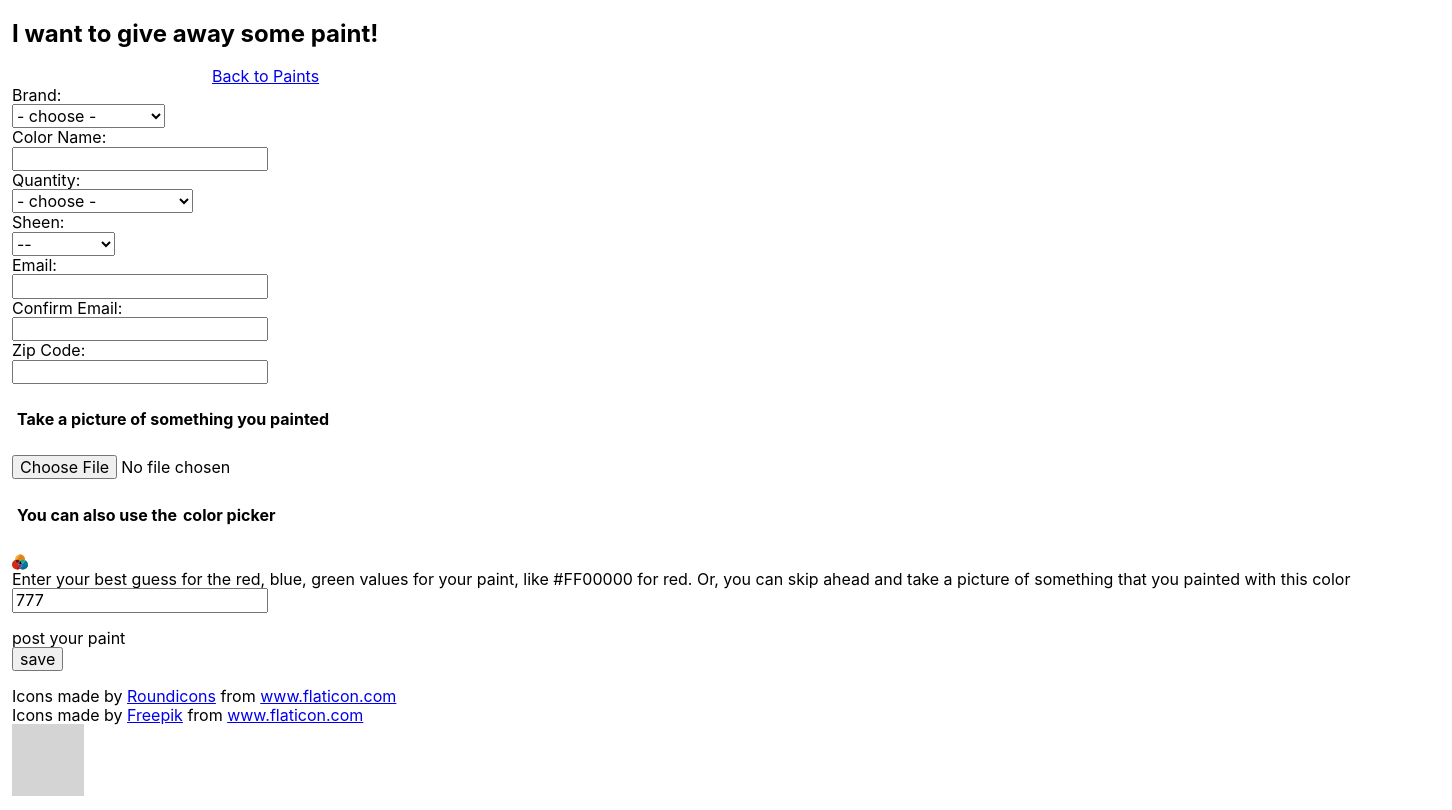
Test: GiveAwayPaint form › Error messages when a single field is missing › shows missing brand Errors
The width and height of the screenshot is (1452, 810).
In the field labelled "Color Name:": (140, 159) [12,147,268,171], type "savage"
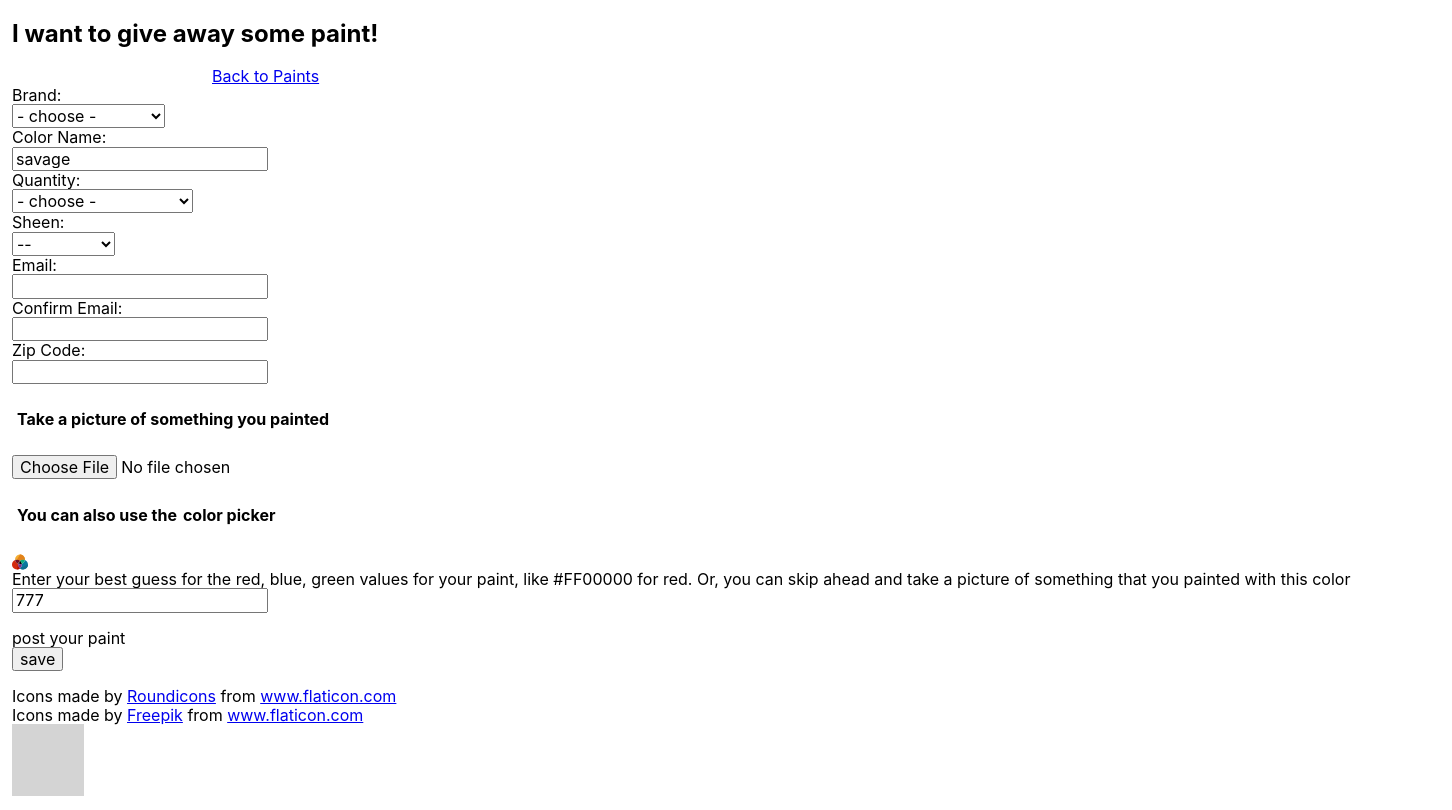
Select "less than a gallon" in the dropdown labelled "Quantity:": (102, 201) [12,189,193,213]
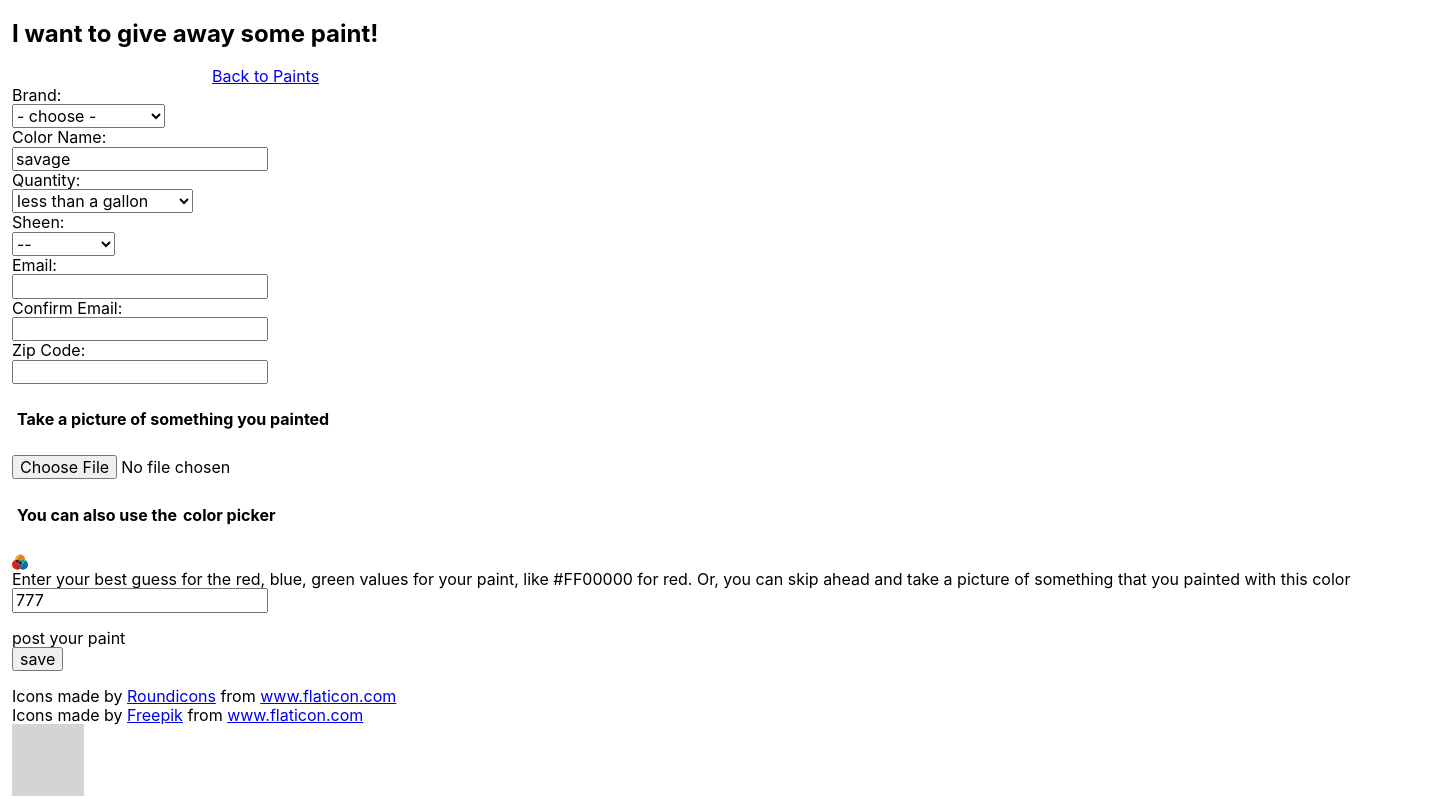
In the field labelled "Email:": (140, 286) [12,274,268,298], type "someString"
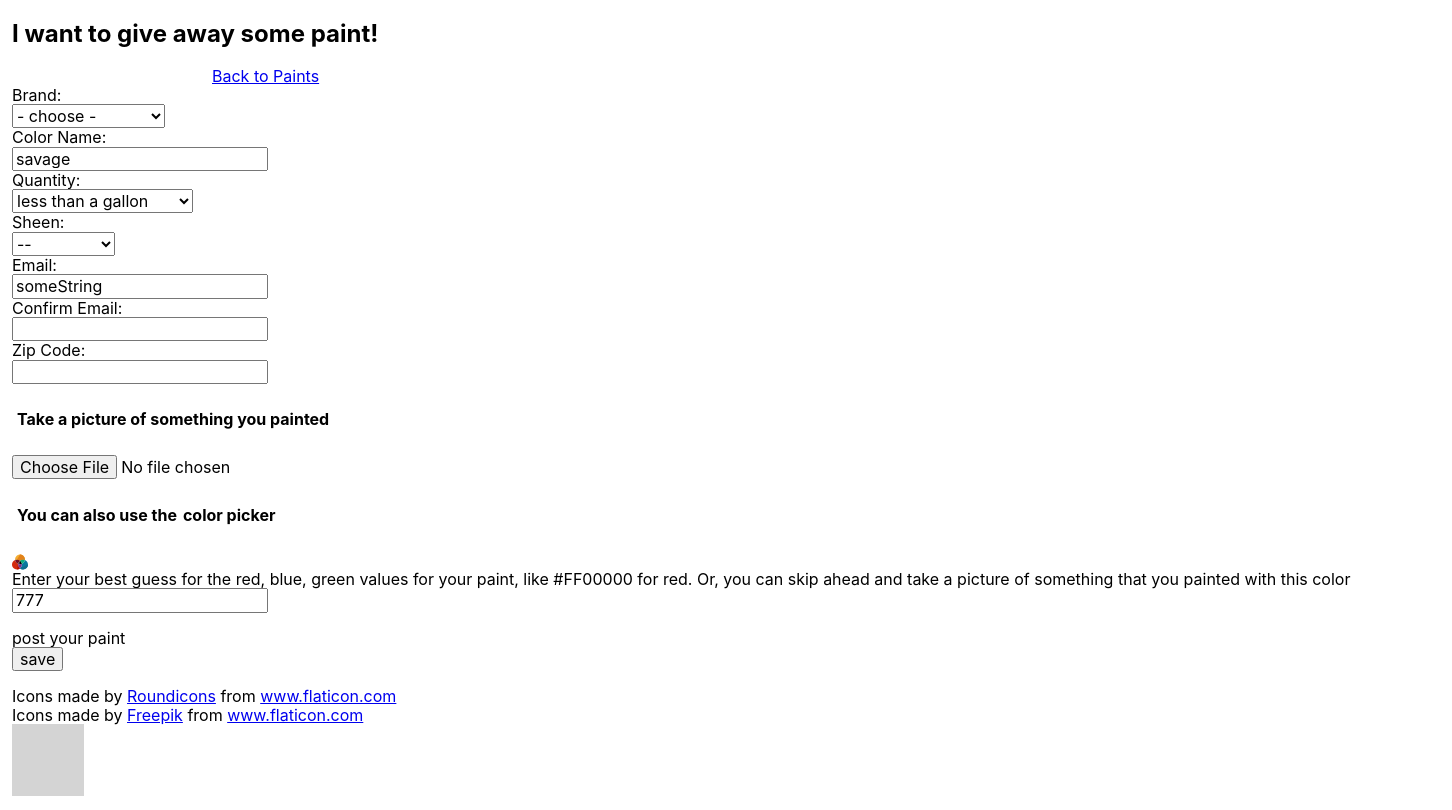
In the field labelled "Confirm Email:": (140, 329) [12,317,268,341], type "someString"
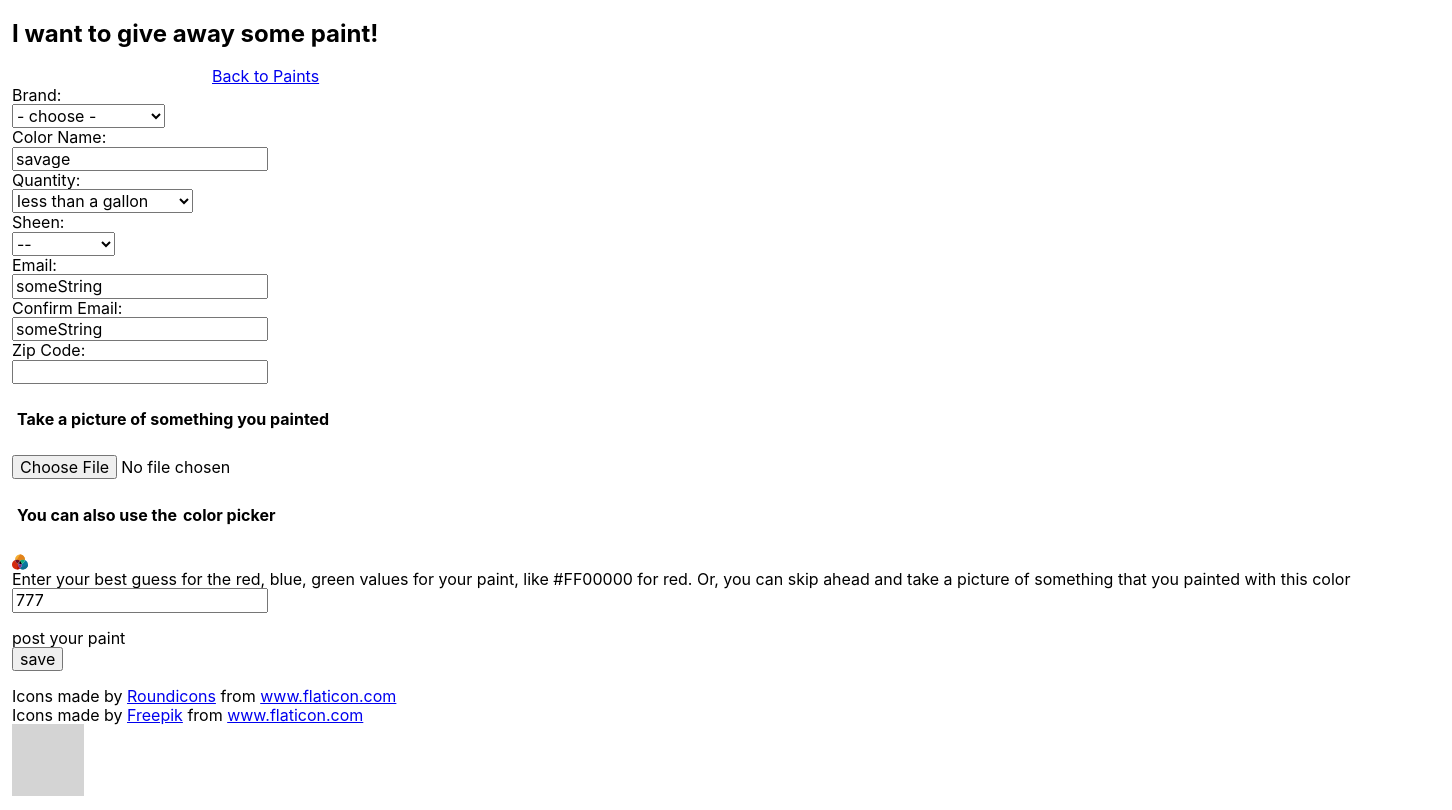
In the field labelled "Zip Code:": (140, 372) [12,360,268,384], type "99999"
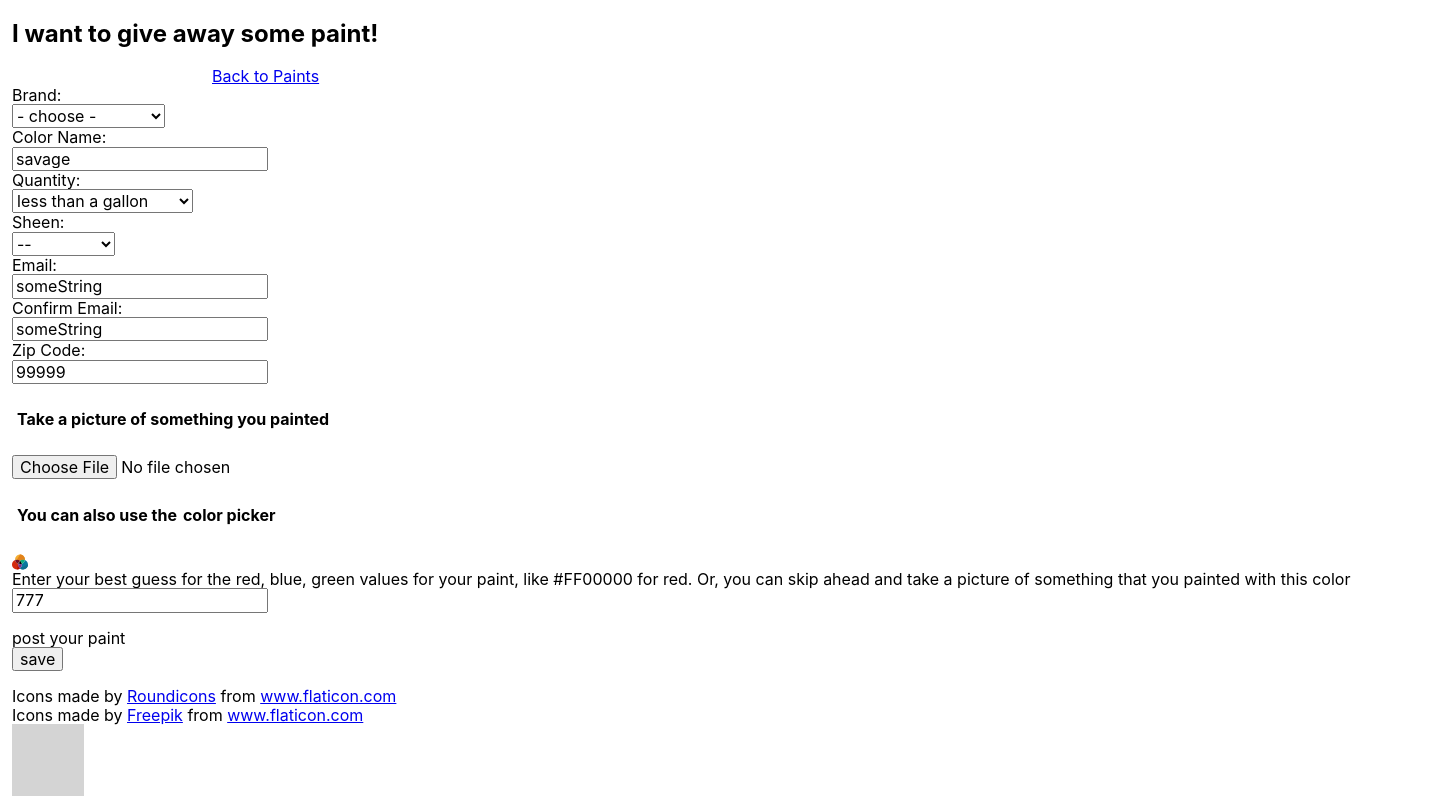
Submit the form
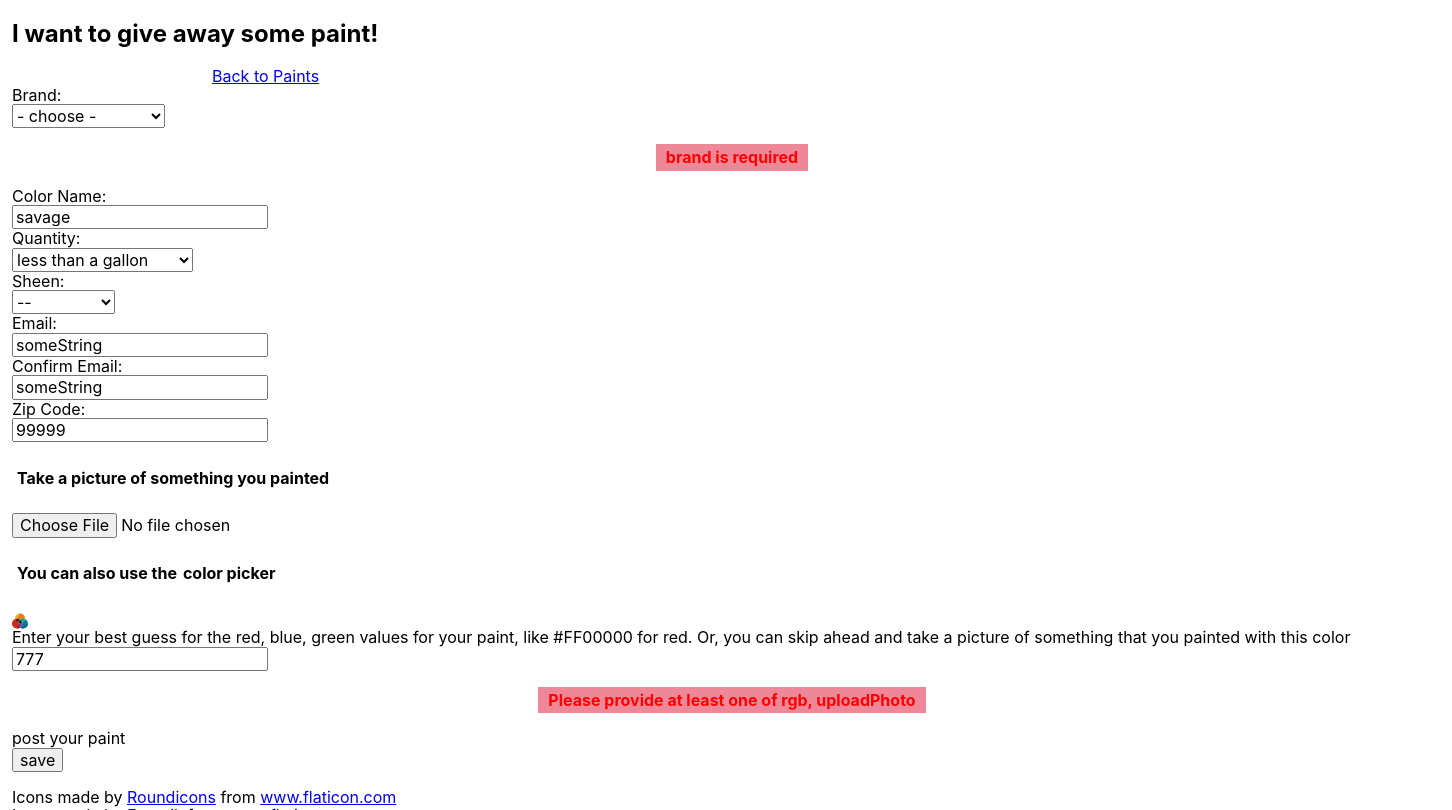
Now the text "brand is required" is shown, box [656,144,808,171]
